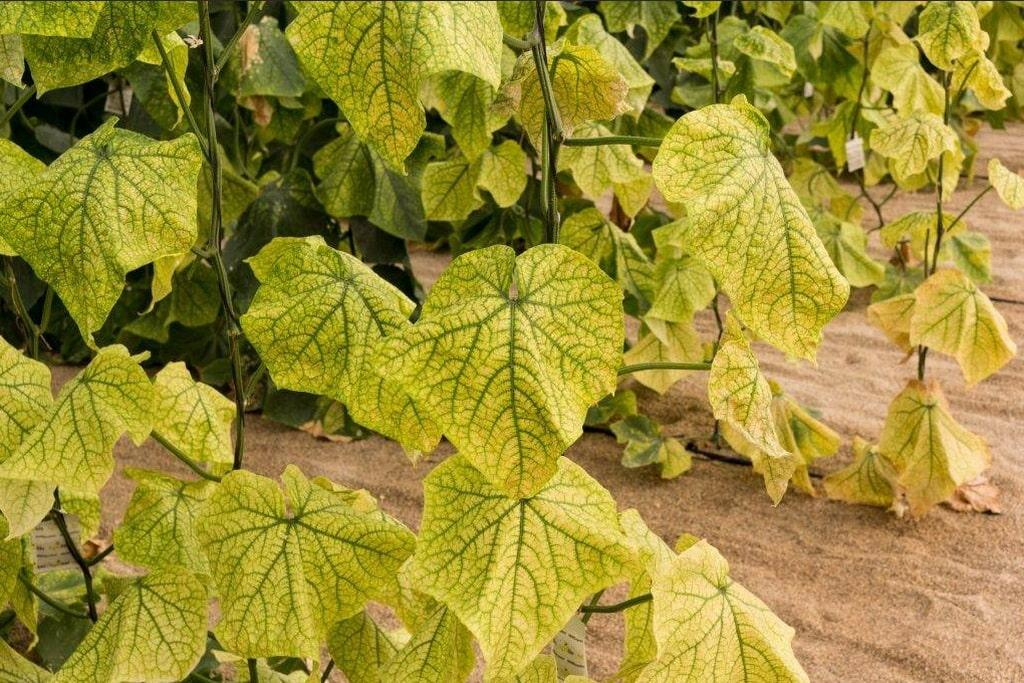chlorosis: (378, 245, 623, 496), (653, 96, 848, 361), (409, 455, 634, 680), (0, 119, 202, 340), (240, 237, 439, 454), (195, 465, 414, 657), (286, 0, 501, 170), (637, 540, 808, 682), (0, 345, 153, 492), (51, 570, 207, 682), (708, 311, 796, 503), (548, 15, 653, 136), (909, 269, 1015, 386), (870, 112, 956, 182), (916, 0, 982, 70)
